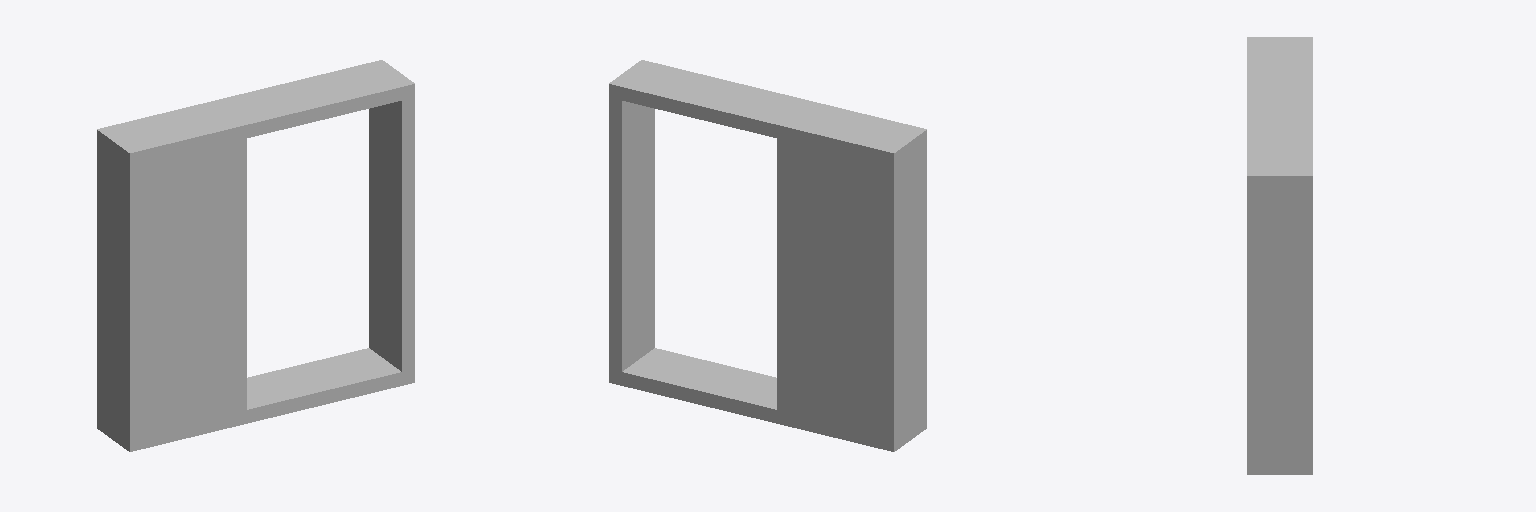
File: Room42.obj
3 views of the same model, side by side, from view 1: azimuth 30°, elevation 25°; view 2: azimuth 150°, elevation 25°; view 3: azimuth 270°, elevation 25° (orthographic).
Visible parts, largest first — view 1: Curve_mesh_Curve; view 2: Curve_mesh_Curve; view 3: Curve_mesh_Curve.
Part boxes in pixels (bbox=[...]): Curve_mesh_Curve: bbox=[97, 60, 414, 451]; Curve_mesh_Curve: bbox=[609, 60, 926, 451]; Curve_mesh_Curve: bbox=[1247, 37, 1312, 474].
Size of the model in its own units: 1 by 1 by 0.2.